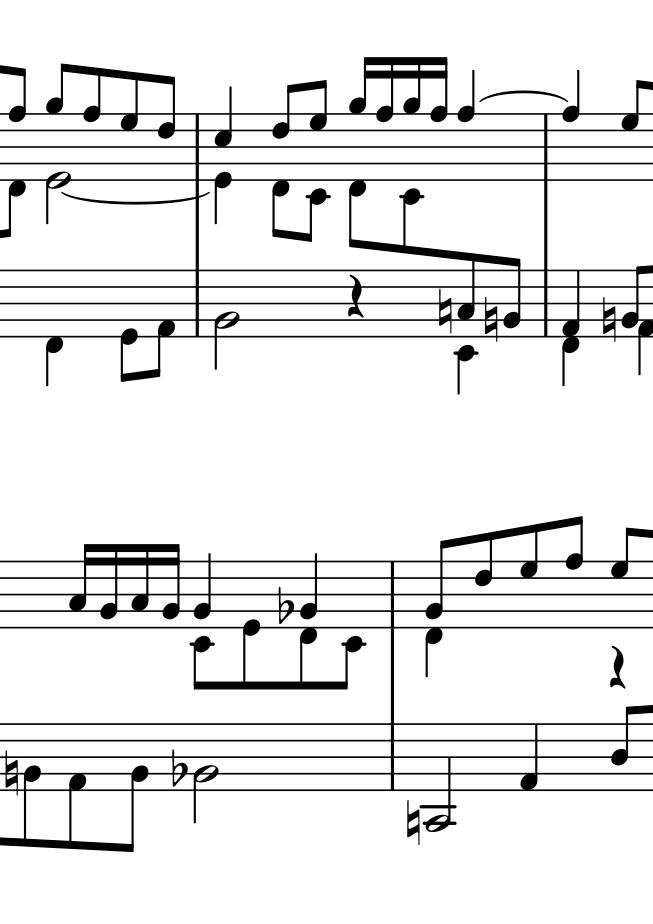16_2: (98, 542, 119, 629), (160, 542, 181, 628)
16_3: (67, 541, 94, 629), (130, 542, 150, 630)
16_8: (375, 56, 394, 180), (428, 56, 447, 180)
16_9: (347, 56, 373, 181), (401, 56, 421, 181)
2_-4: (425, 722, 457, 833)
2_0: (44, 113, 73, 225)
2_2: (192, 723, 219, 824), (214, 268, 239, 372)
4_-1: (44, 269, 63, 387)
4_0_5: (213, 87, 235, 222)
4_1: (517, 723, 542, 793)
4_2: (192, 551, 214, 629), (299, 551, 320, 623)
8_-1_6: (271, 83, 295, 238)
8_-1_8: (3, 65, 27, 238)
8_-2: (336, 560, 367, 690)
8_-2_7: (301, 78, 328, 245)
8_0: (120, 268, 139, 383)
8_1: (242, 560, 262, 690), (67, 722, 86, 851), (155, 272, 177, 371)
8_2: (123, 721, 148, 852), (23, 722, 41, 849), (620, 264, 645, 337), (502, 256, 524, 338)
8_4: (610, 703, 637, 793)
8_6: (156, 77, 177, 182), (473, 532, 494, 628)
8_7: (609, 525, 634, 632), (620, 79, 644, 182), (120, 70, 141, 180), (519, 524, 538, 630)
8_8: (80, 66, 101, 180), (565, 516, 584, 628), (457, 70, 476, 180), (562, 68, 581, 178)
8_9: (44, 62, 75, 181)
Flat: (275, 585, 294, 625), (169, 748, 187, 789)
Natural: (601, 296, 618, 344), (437, 286, 453, 336), (483, 295, 499, 343), (3, 750, 19, 798), (405, 798, 421, 846)
Rests4: (345, 273, 367, 320), (607, 645, 626, 692)
Single_barline: (537, 270, 555, 336), (188, 271, 206, 335), (384, 561, 401, 628), (384, 722, 400, 792), (537, 115, 554, 180)
Slur: (60, 191, 211, 205), (482, 91, 565, 105)
